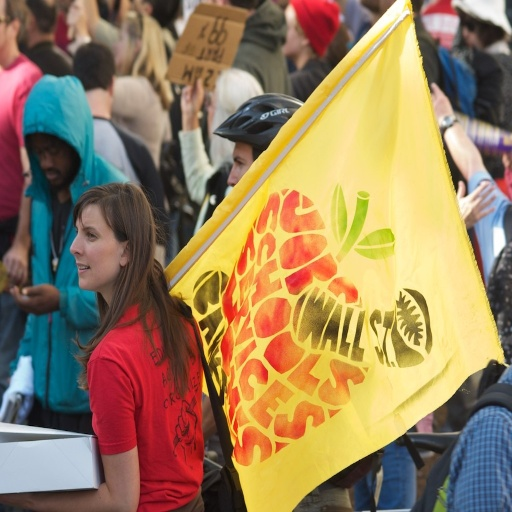hand: (457, 176, 496, 230), (8, 282, 60, 317), (0, 244, 28, 289), (178, 74, 205, 114), (430, 79, 452, 125), (64, 0, 87, 33), (0, 492, 33, 509)
